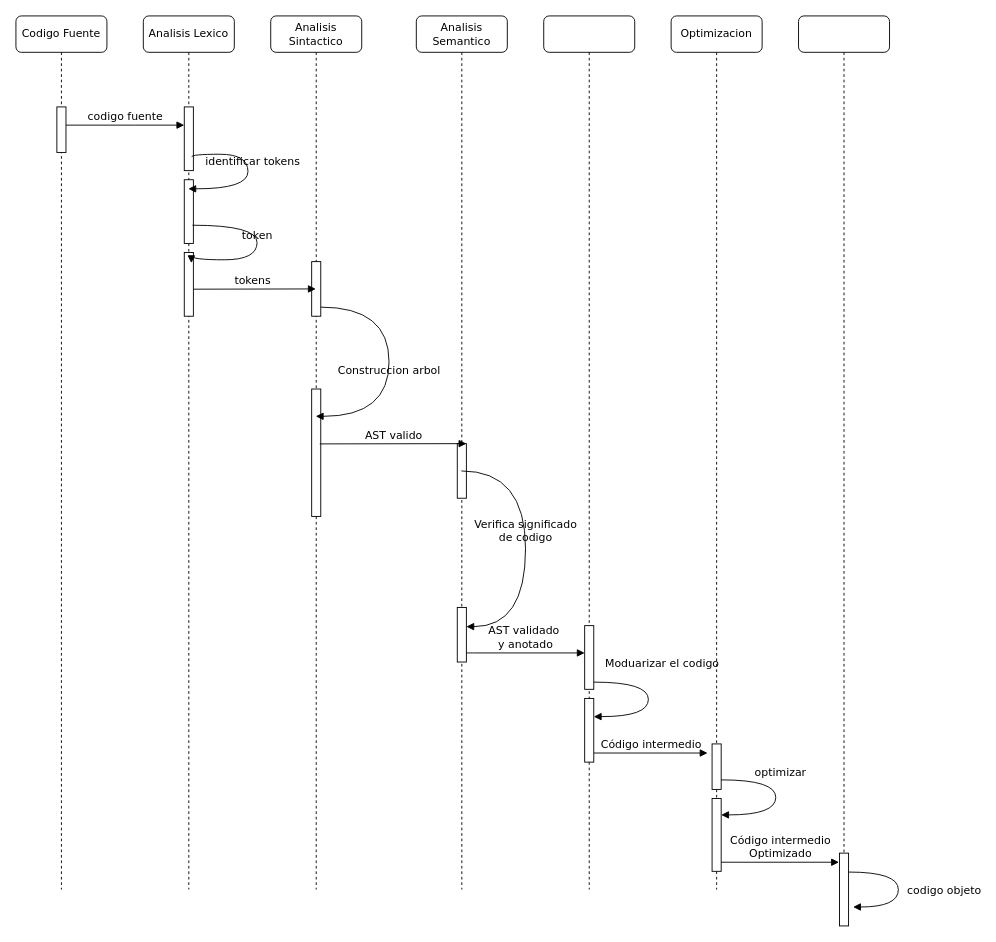
Some shapes in this 996 by 942 pixel diagram are drawn without their labels. Here are the shapes that lost their labels. From the top down, the box of each, then its label:
(543, 15, 635, 890): Codigo Intermedio
(798, 15, 890, 926): Codigo Maquina
